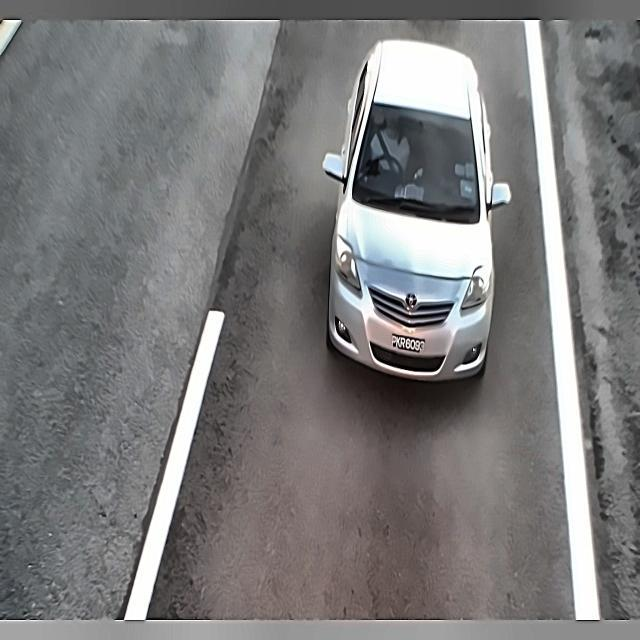car: (382, 329, 429, 364)
